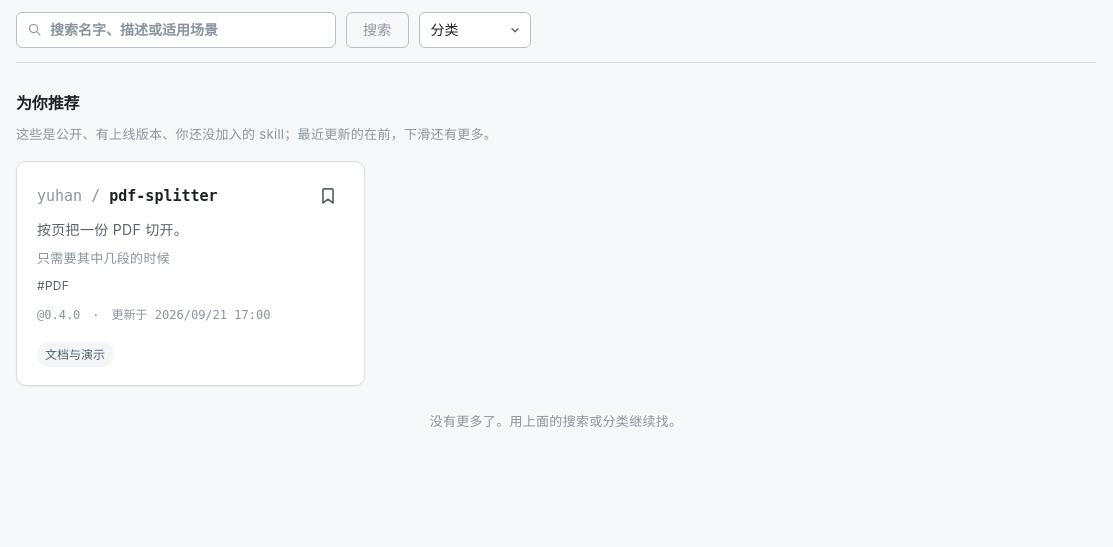
it: joining › shows a refused removal on the card instead of leaving it looking joined
Click the button with class "result-join".
click(328, 196)  # box [312,180,344,212]
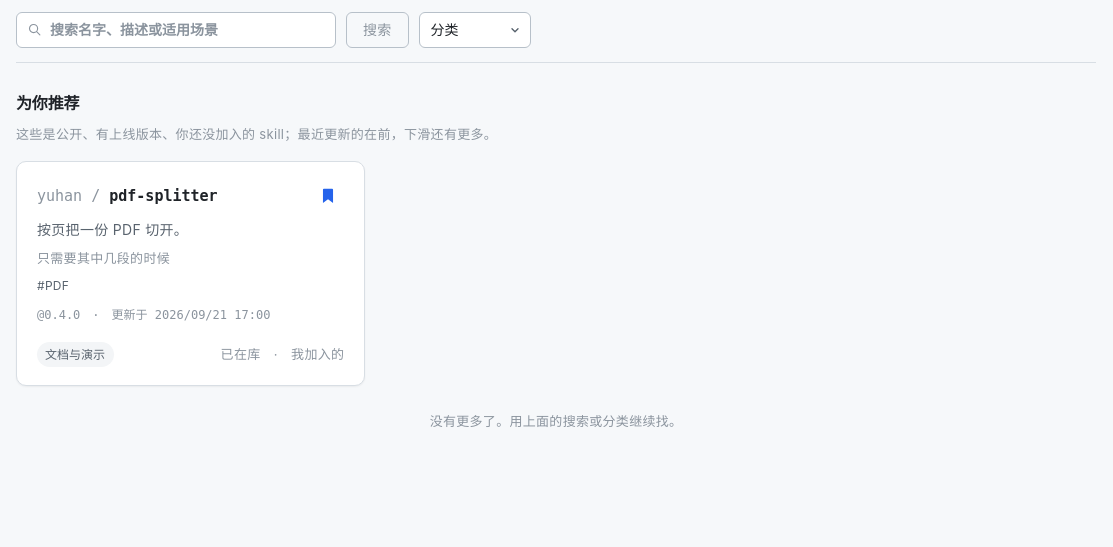
Expected: the text with class "result-in" reads "已在库 · 我加入的", [221,346,344,362]
Click the button with class "result-join".
click(328, 196)  # box [312,180,344,212]
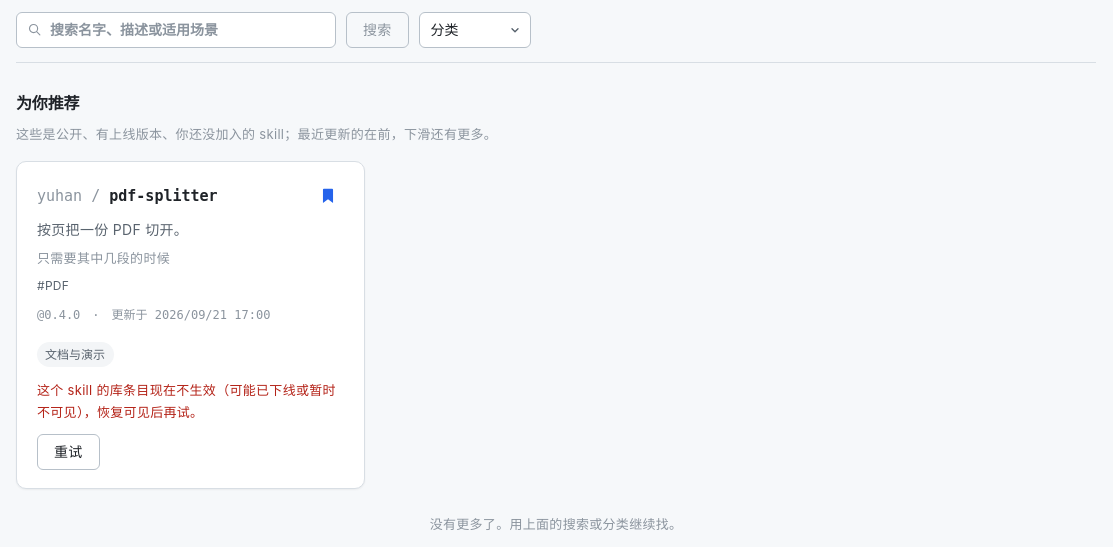
Expected: the message with class "result-in" reads "这个 skill 的库条目现在不生效（可能已下线或暂时不可见），恢复可见后再试。", [37,382,336,420]
